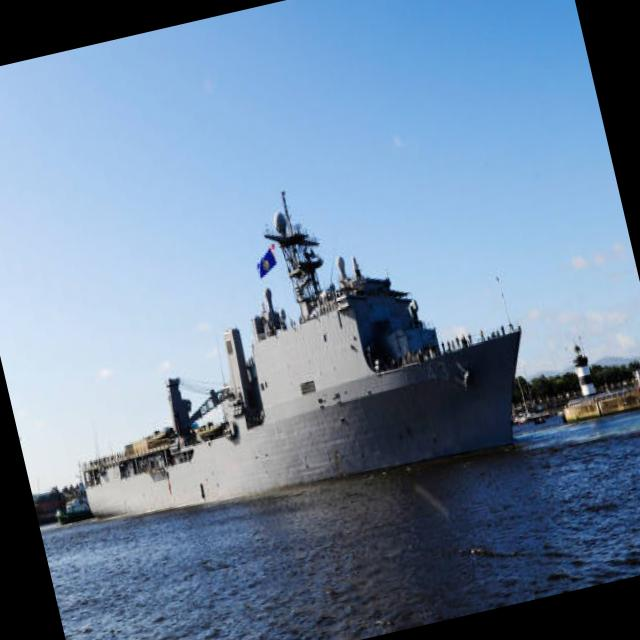Military: (80, 209, 521, 521)
